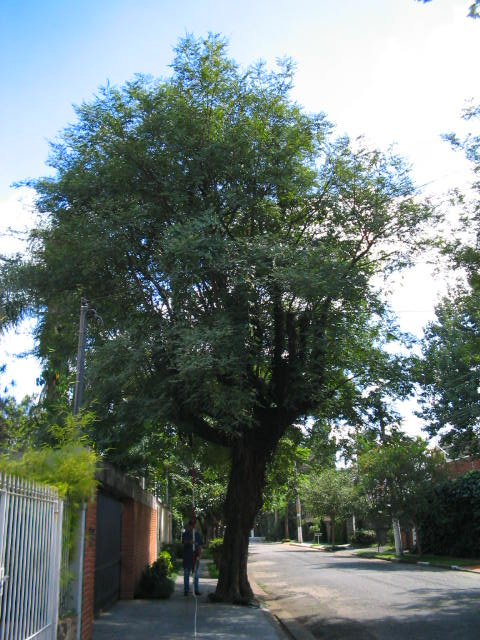crown: (8, 35, 434, 438)
stem: (206, 448, 279, 601)
stick: (187, 463, 203, 598)
tree: (4, 34, 434, 601)
